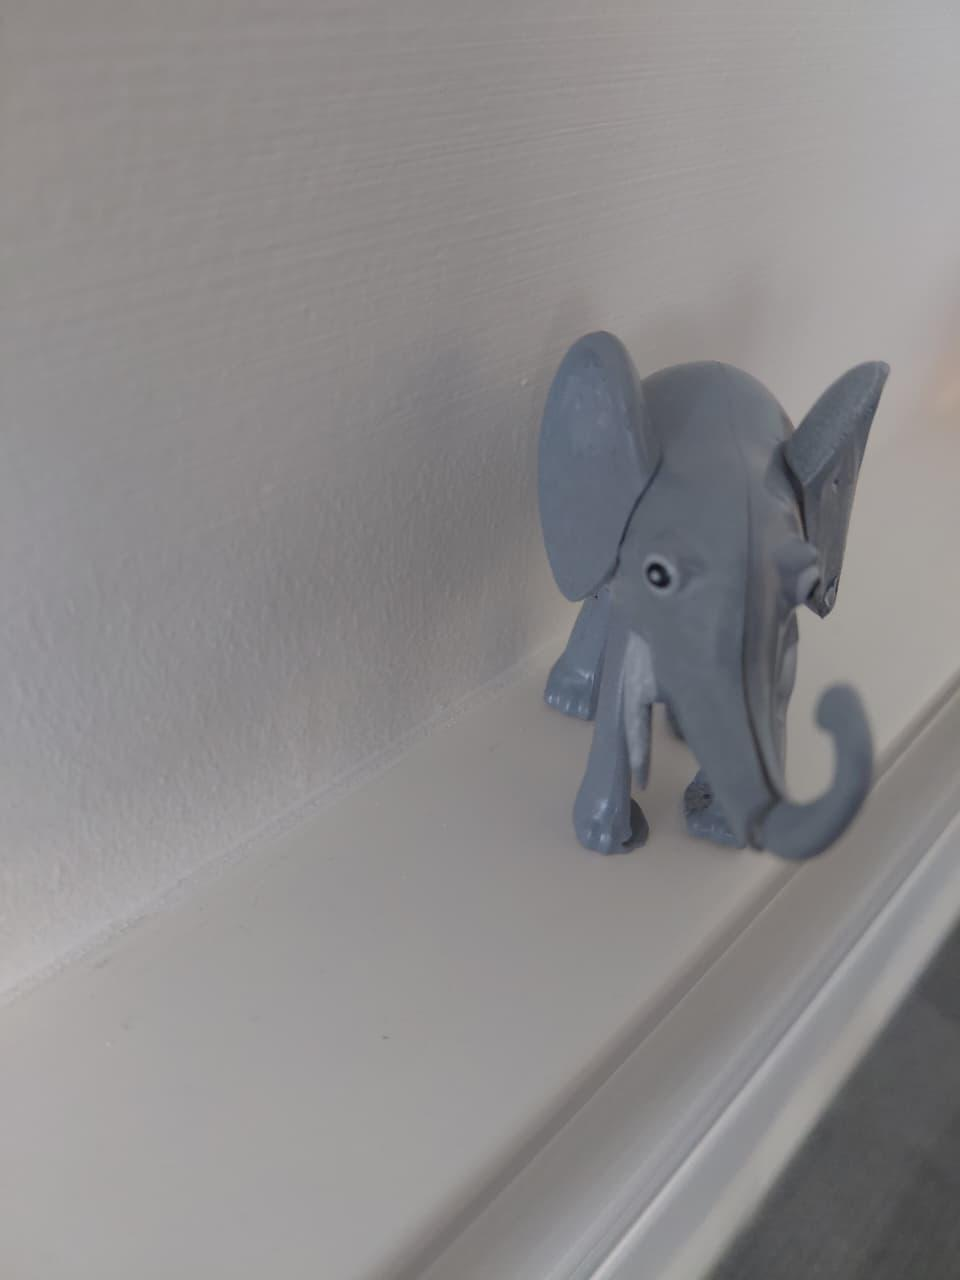elephant: (473, 268, 910, 929)
